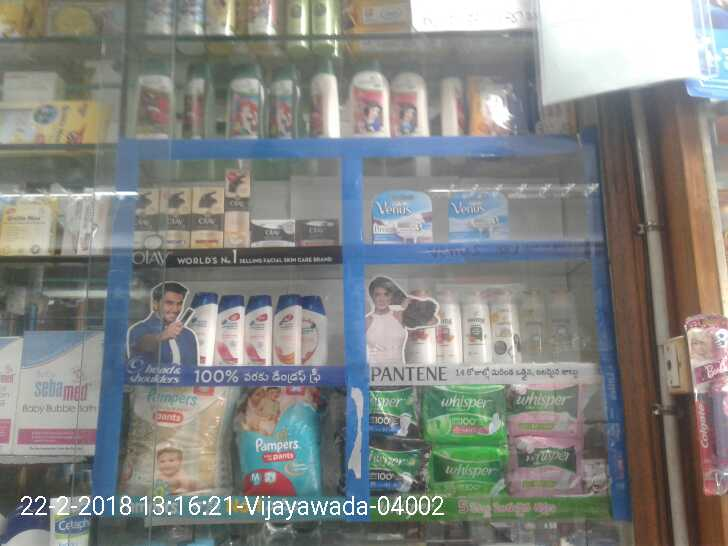venus: (449, 187, 512, 236), (375, 193, 434, 244)
